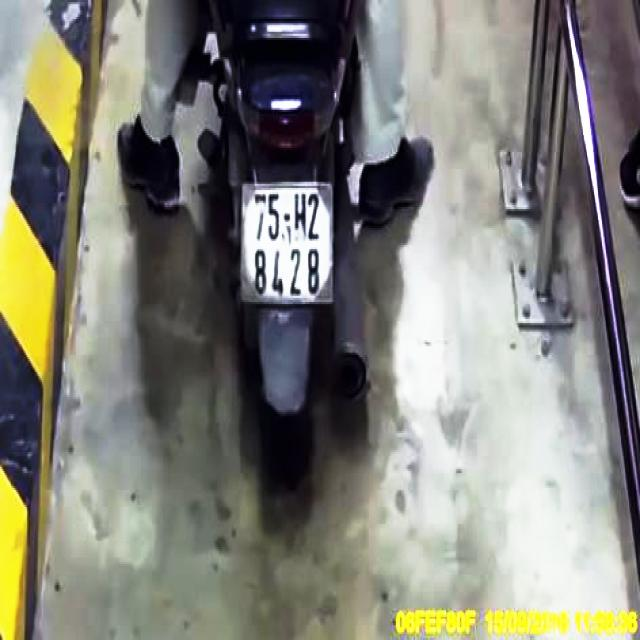license_plate: (240, 183, 336, 305)
